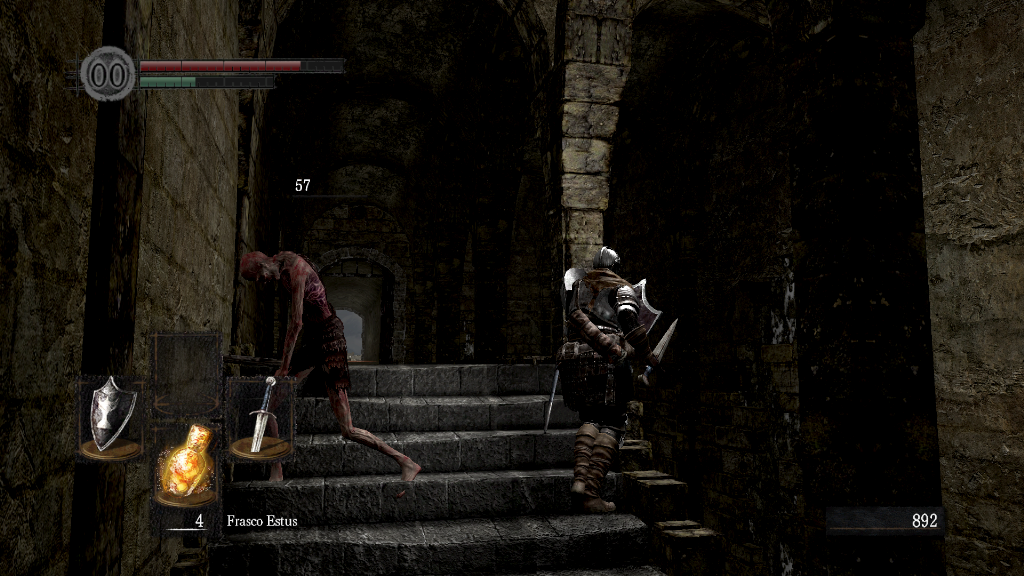health: (138, 58, 343, 71)
hollow: (238, 248, 424, 500)
humanity: (80, 45, 136, 102)
player: (548, 246, 680, 514)
souls: (825, 506, 945, 536)
stamina: (138, 74, 274, 88)
